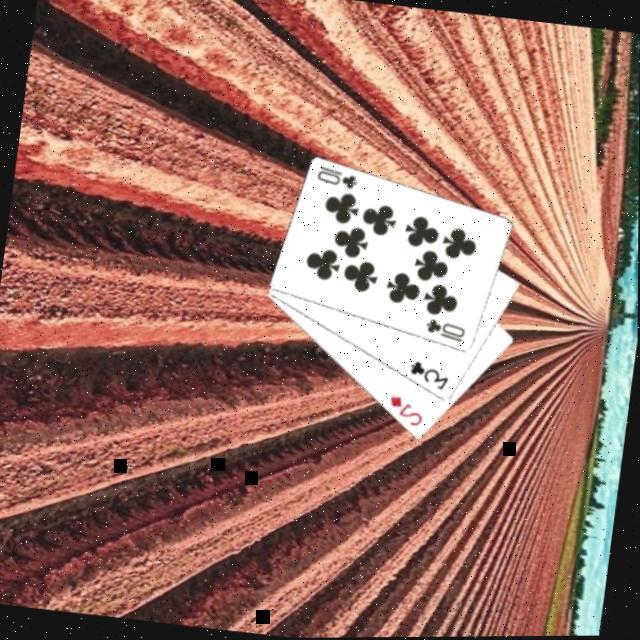10C: (422, 316, 472, 348), (314, 163, 363, 194)
2D: (386, 393, 430, 432)
3C: (406, 358, 456, 395)
